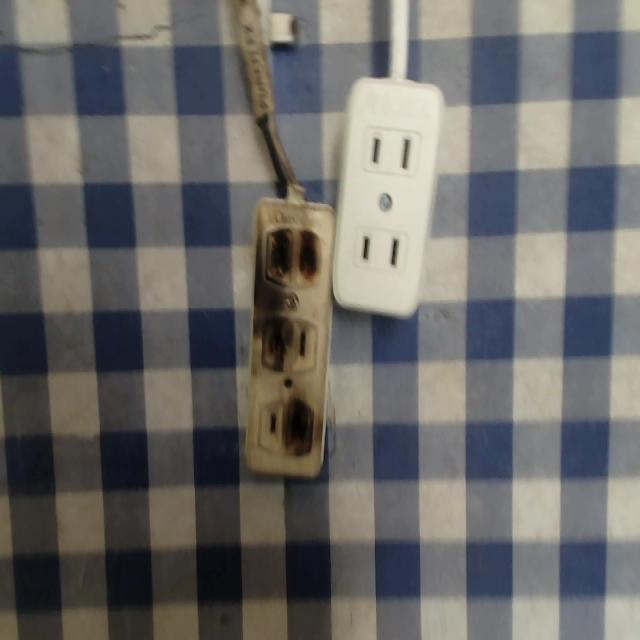-: (258, 224, 324, 291), (280, 399, 318, 468), (253, 313, 292, 375)
